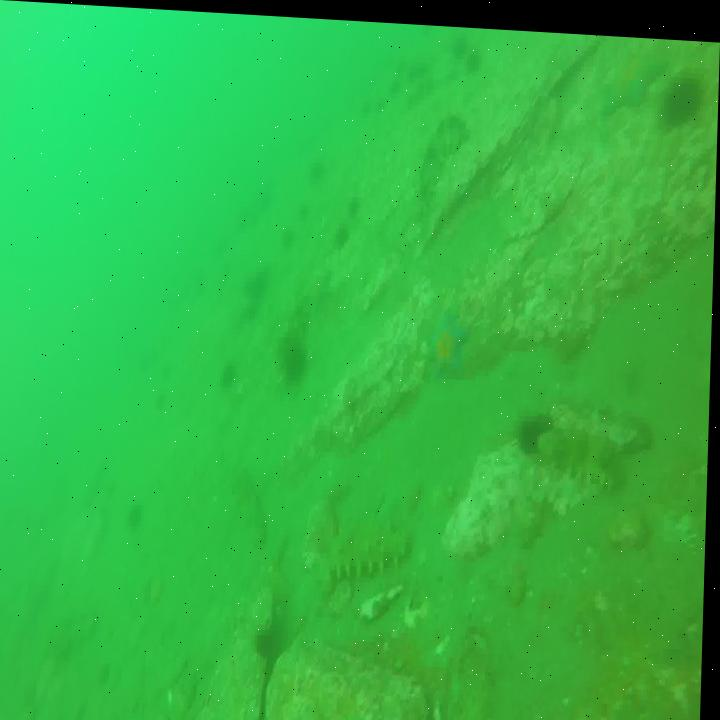echinus: (664, 62, 698, 134), (519, 401, 551, 449), (285, 336, 311, 381), (296, 191, 314, 223), (223, 357, 239, 390), (309, 155, 328, 182), (335, 221, 354, 248), (281, 222, 301, 247), (130, 501, 144, 528)
holothurian: (541, 415, 633, 484), (325, 518, 413, 589)
starfish: (603, 37, 669, 110), (431, 303, 471, 377)
